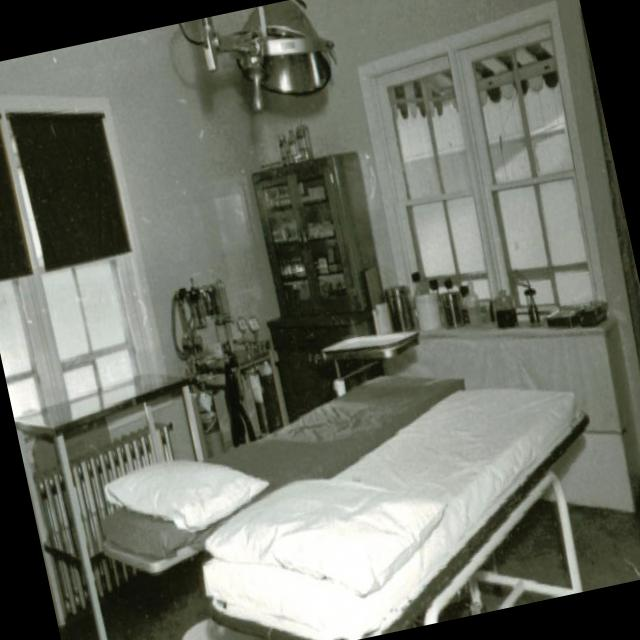2001: (0, 93, 173, 466), (459, 19, 597, 306), (374, 50, 492, 304)
bottle crop: (494, 286, 519, 327)
couch: (103, 371, 463, 574)
couch -x: (203, 385, 590, 640)
counter bottom: (394, 312, 640, 510)
curtain crop: (8, 110, 131, 269), (0, 119, 32, 277)
floor -X: (59, 415, 640, 640)
furniture crop: (251, 146, 398, 422)
lamp crop: (235, 0, 332, 109)
oxygen tank: (250, 312, 284, 430)
pillow occluded: (207, 471, 443, 589), (106, 453, 269, 530)
raditor occluded: (35, 420, 192, 613)
table -X: (17, 373, 204, 640)
tray occluded: (547, 302, 583, 325)
wall clock: (229, 0, 640, 482), (0, 12, 307, 622)
